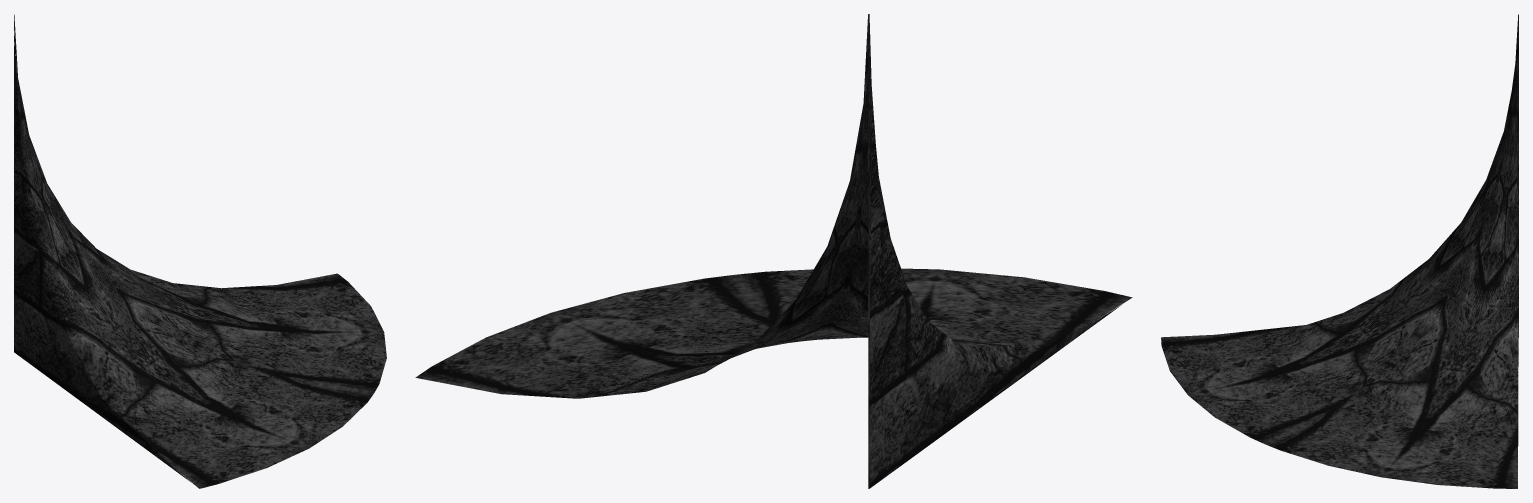
Rendered from Ceiling Detail 2.FBX.
3 renders of one model, left to right at view 1: azimuth 30°, elevation 25°; view 2: azimuth 150°, elevation 25°; view 3: azimuth 270°, elevation 25°, orthographic. The views are drawn at different scales.
Parts seen in each view (by area): view 1: Box002; view 2: Box002; view 3: Box002.
Part boxes in pixels (x1=…): Box002: x1=14, y1=14, x2=386, y2=488; Box002: x1=415, y1=14, x2=1132, y2=488; Box002: x1=1161, y1=14, x2=1518, y2=488.
Bounding box in the file's own units: 39.57 × 39.37 × 39.45.
Materials: 1 (1 with a texture image).
